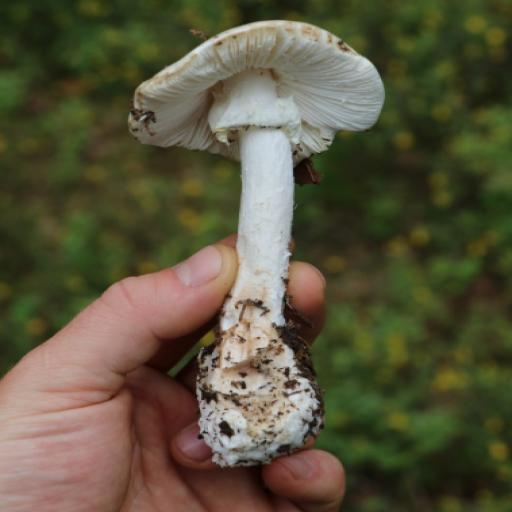mushroom: (127, 15, 386, 168), (222, 69, 300, 325), (200, 61, 302, 149)
